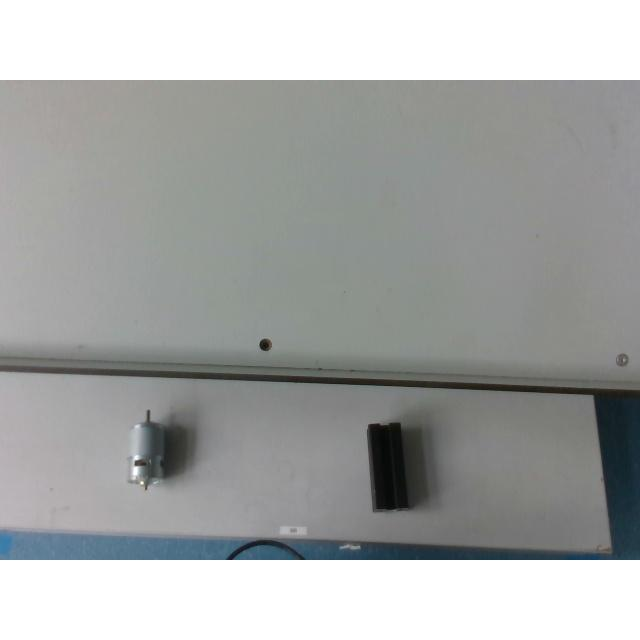Motor2: (126, 408, 166, 492)
S40_40_B: (367, 422, 409, 512)
